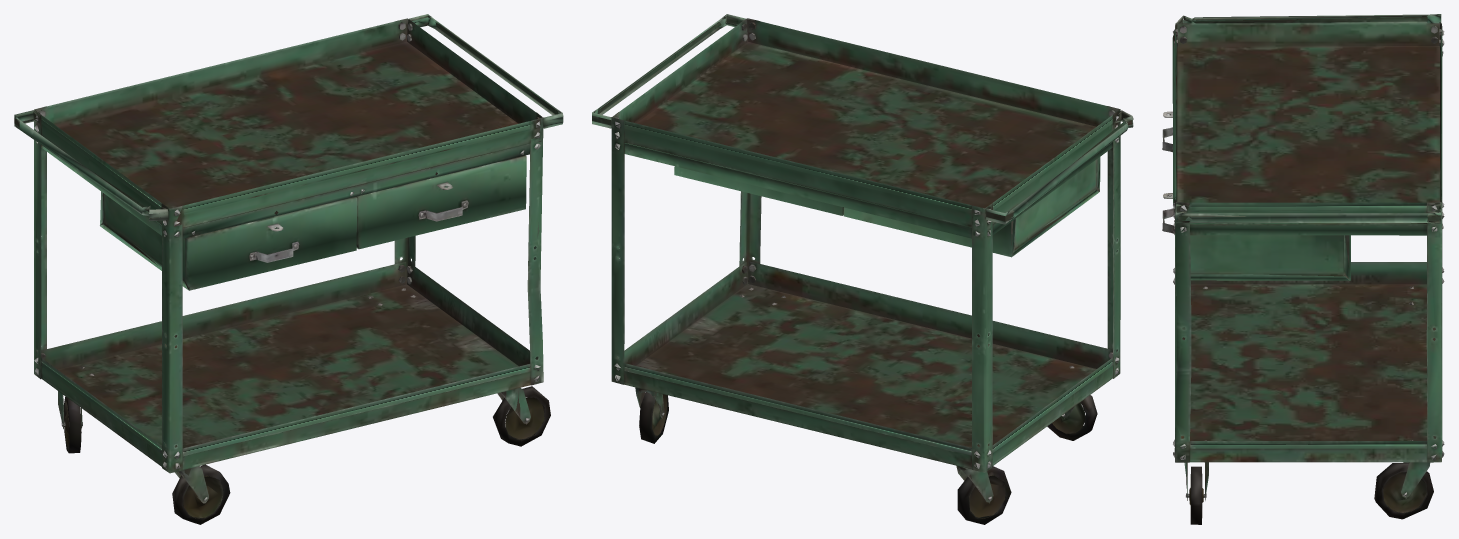
Rendered from tool_cart.glb.
3 views of the same model, side by side, from view 1: azimuth 30°, elevation 25°; view 2: azimuth 150°, elevation 25°; view 3: azimuth 270°, elevation 25° (orthographic).
Visible parts, largest first — view 1: tool_cart; view 2: tool_cart; view 3: tool_cart.
Boxes of the visible parts, left/top/right/bottom form: tool_cart: left=14, top=14, right=563, bottom=524; tool_cart: left=592, top=14, right=1133, bottom=524; tool_cart: left=1162, top=14, right=1444, bottom=524.
Size of the model in its own units: 1.28 by 0.9673 by 0.7538.
1 material, 1 textured.
